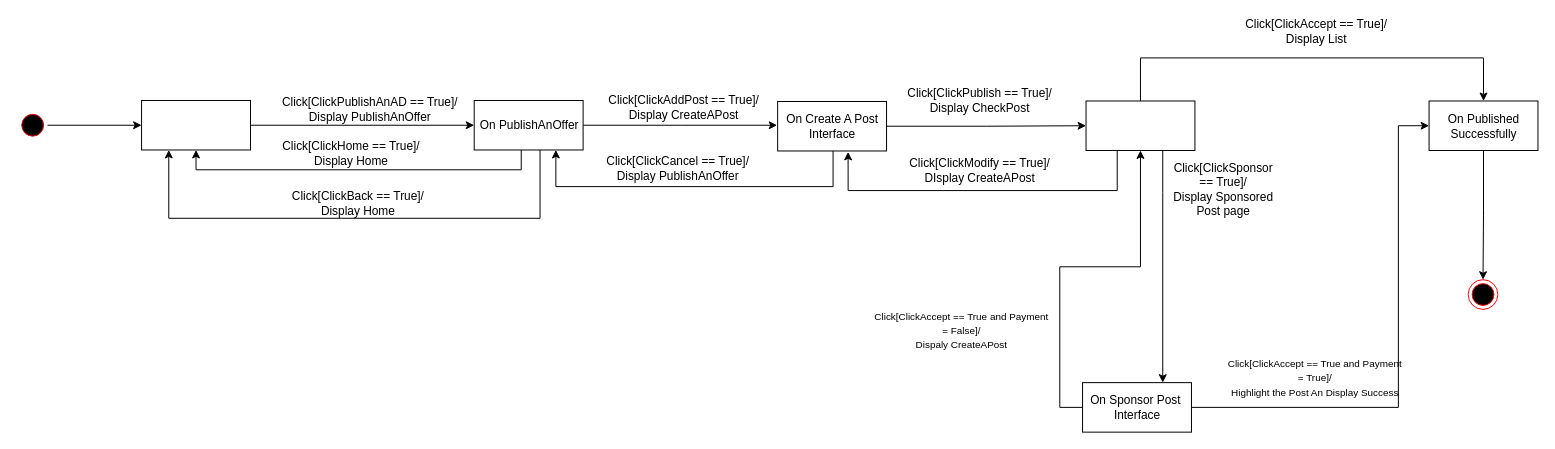
Some shapes in this 1555 by 449 pixel diagram are drawn without their labels. Here are the shapes that lost their labels. From the top down, the box of each, then its label:
(141, 99, 250, 150): On Home
(1085, 100, 1195, 150): On Check Your Post Interface
